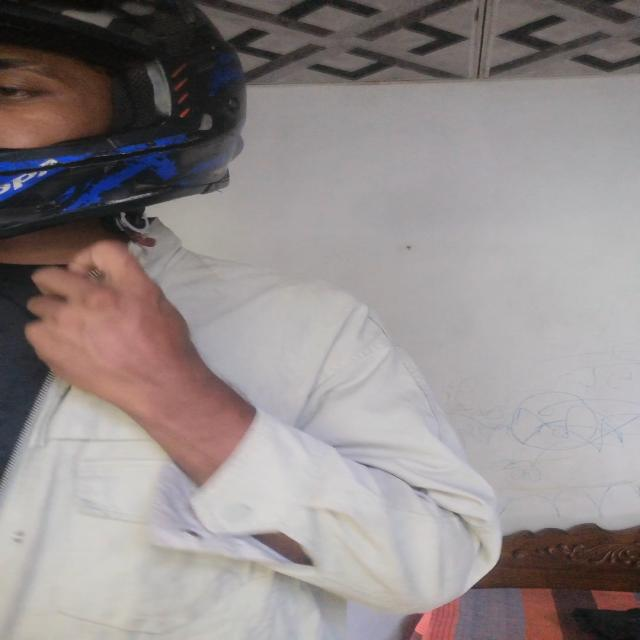Helmet_Wearer: (4, 1, 264, 265)
Jacket_Wearer: (13, 237, 530, 640)
Person: (4, 0, 500, 640)
